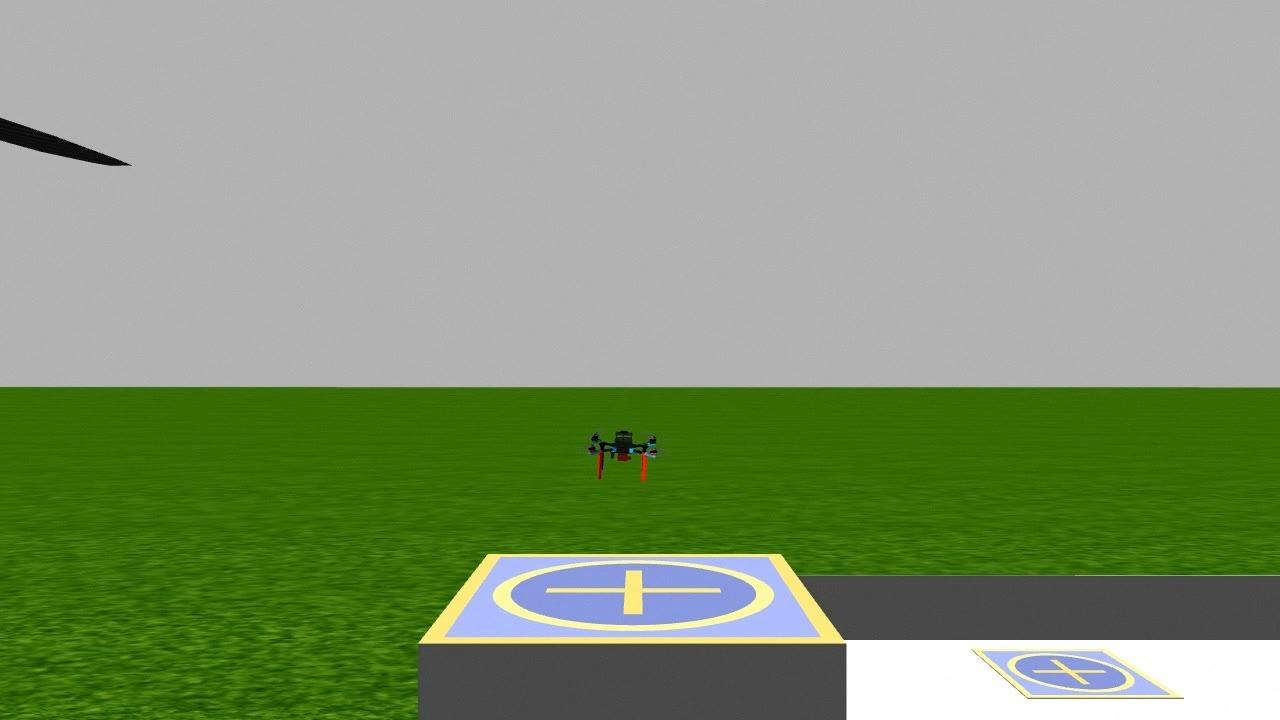UAV: (565, 415, 689, 487)
